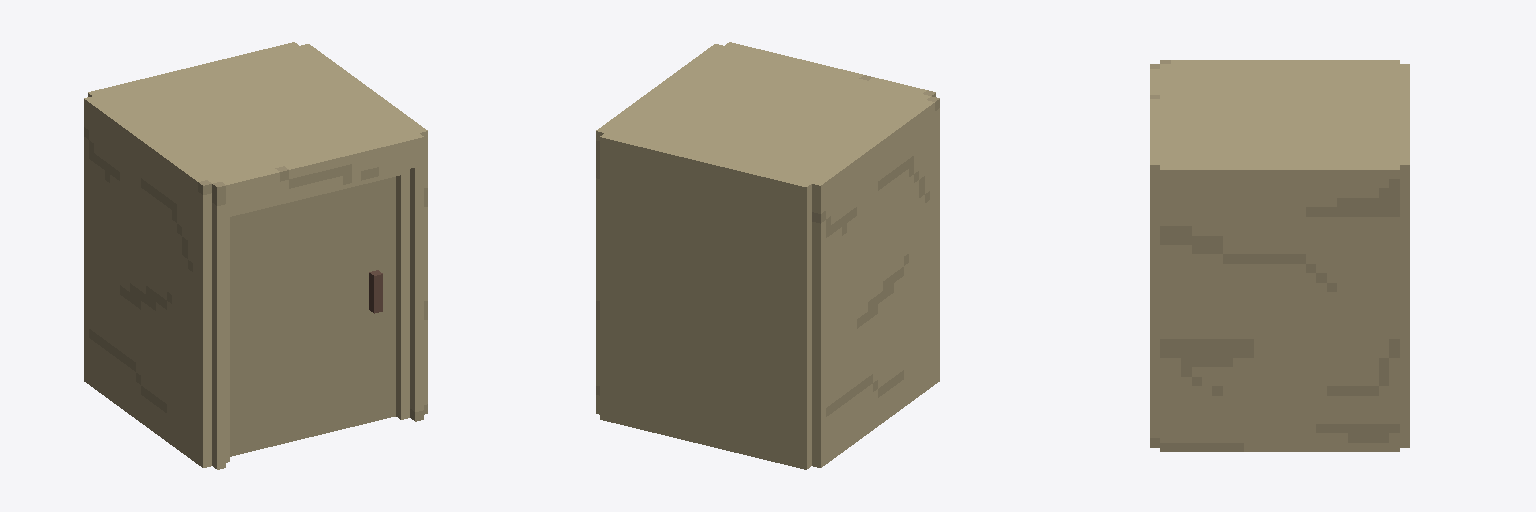
3 views of the same model, side by side, from view 1: azimuth 30°, elevation 25°; view 2: azimuth 150°, elevation 25°; view 3: azimuth 270°, elevation 25° (orthographic).
Visible parts, largest first — view 1: object 1; view 2: object 1; view 3: object 1.
Part boxes in pixels (left/top/right/bottom): object 1: left=84, top=42, right=427, bottom=469; object 1: left=596, top=42, right=939, bottom=469; object 1: left=1150, top=60, right=1409, bottom=451.
Bounding box in the file's own units: 2.5 × 3 × 2.5.
Materials: 1 (1 with a texture image).